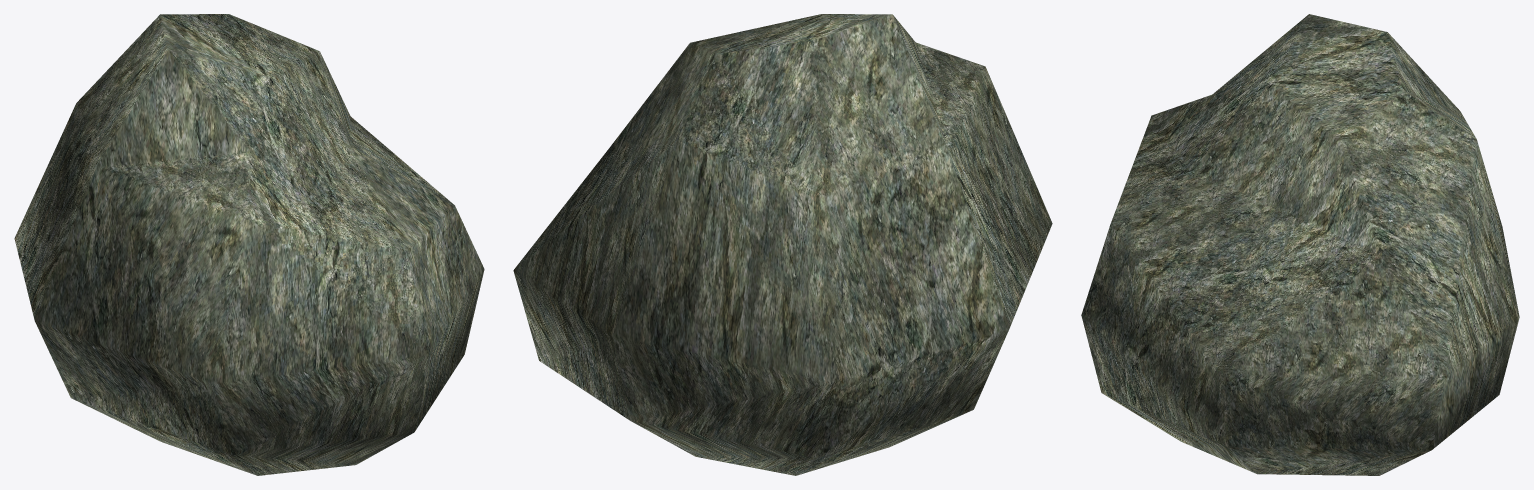
Rendered from mtns_rock_grey_a2_l0.fbx.
3 views of the same model, side by side, from view 1: azimuth 30°, elevation 25°; view 2: azimuth 150°, elevation 25°; view 3: azimuth 270°, elevation 25° (orthographic). The views are drawn at different scales.
Visible parts, largest first — view 1: mesh_node; view 2: mesh_node; view 3: mesh_node.
Part boxes in pixels (bbox=[...]): mesh_node: bbox=[14, 14, 484, 475]; mesh_node: bbox=[513, 14, 1052, 475]; mesh_node: bbox=[1081, 14, 1519, 475].
Size of the model in its own units: 1.28 by 1.22 by 1.3.
Materials: 1 (1 with a texture image).
